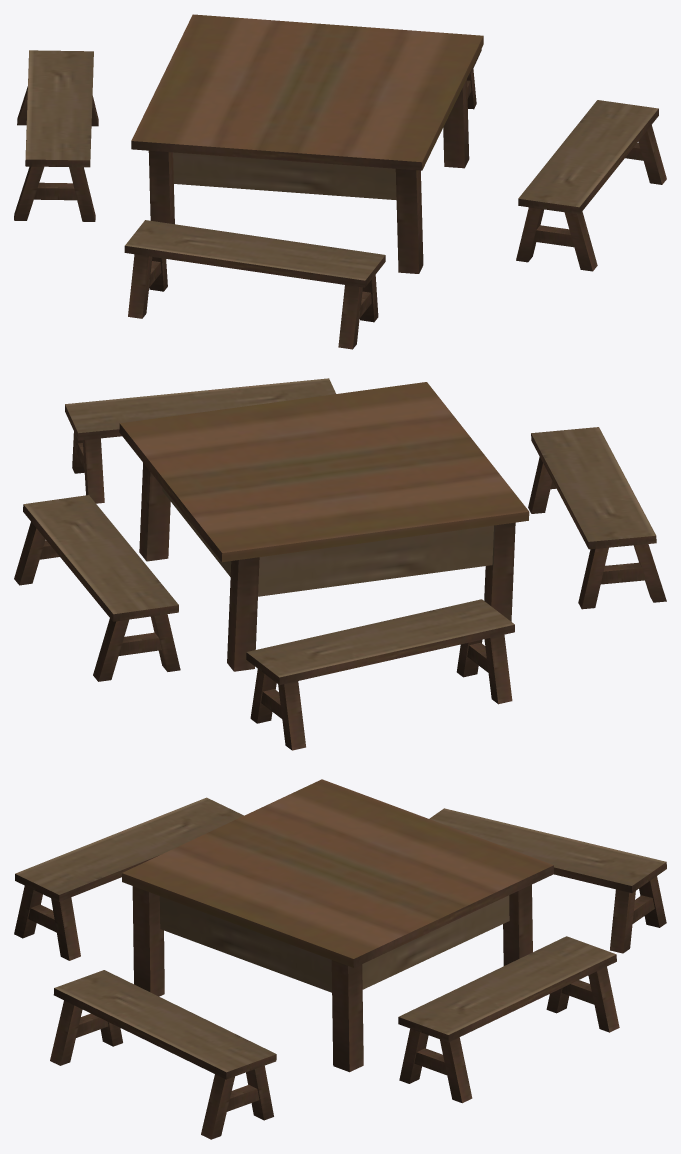
The model's file is City_bujian_35.fbx.
The picture shows the model from 3 angles, top to bottom: view 1: azimuth 30°, elevation 25°; view 2: azimuth 150°, elevation 25°; view 3: azimuth 270°, elevation 25°; orthographic projection. The views are drawn at different scales.
Parts seen in each view (by area): view 1: pasted__DrawCall_00102; view 2: pasted__DrawCall_00102; view 3: pasted__DrawCall_00102.
Boxes of the visible parts, box(x1,y1,x2,y2) form: pasted__DrawCall_00102: box(14, 14, 666, 349); pasted__DrawCall_00102: box(14, 378, 666, 750); pasted__DrawCall_00102: box(14, 779, 666, 1139).
Size of the model in its own units: 6.43 by 1.36 by 6.47.
